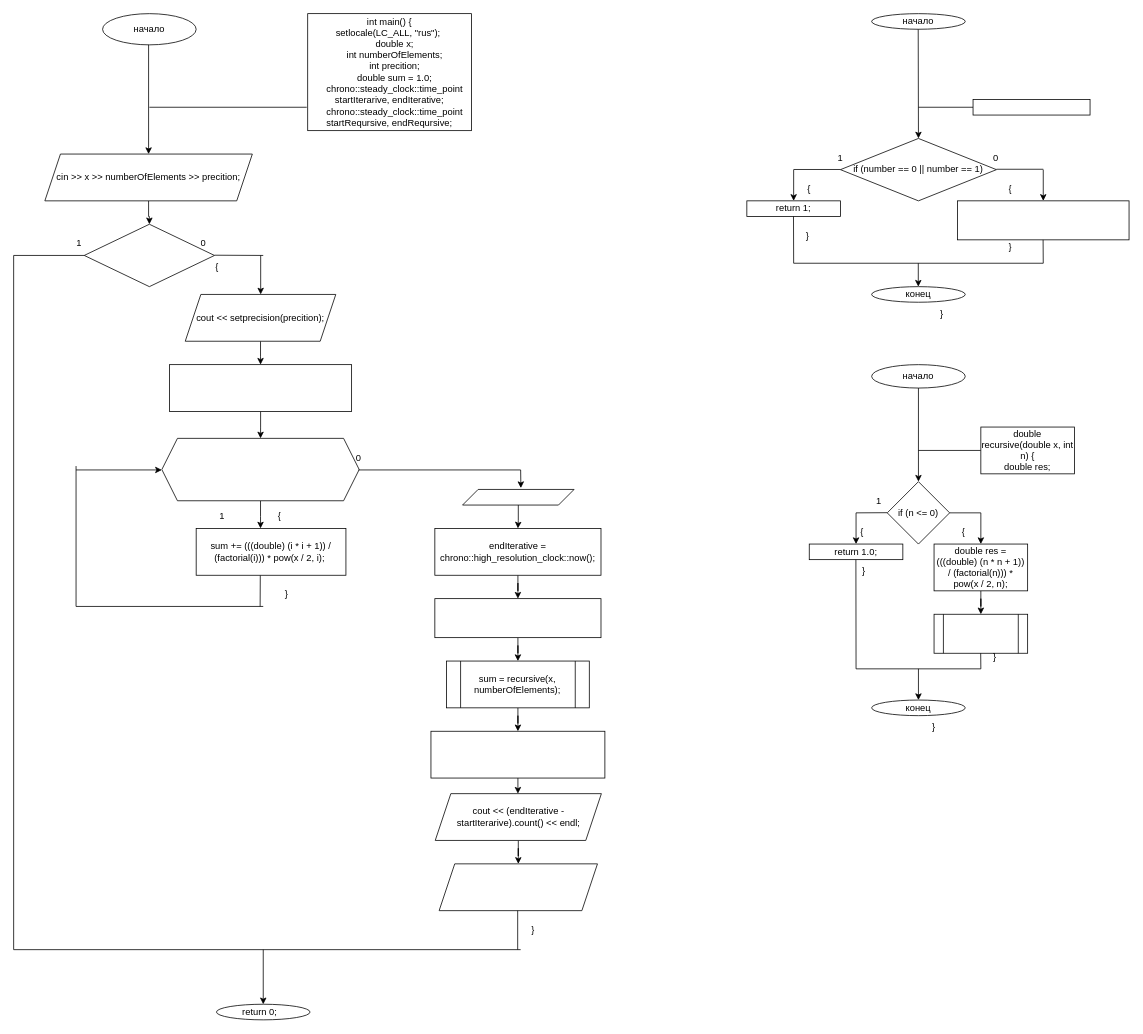
Some shapes in this 1143 by 1034 pixel diagram are drawn without their labels. The shapes that lost their labels are listed below. From the top down, each one's centre as x and y in pixels, then its label:
At point 1031,107: "int factorial(int number) {".
At point 1043,220: "return sqrt(2 * 3.14 * number) * pow(number, number) * (0.46082949308);".
At point 148,255: "if (numberOfElements < 1)".
At point 260,387: "startIterarive = chrono::high_resolution_clock::now();".
At point 260,469: "for (int i = 1; i < numberOfElements + 1; i++)".
At point 518,497: "cout << sum << endl;".
At point 517,618: "startReqursive = chrono::high_resolution_clock::now();".
At point 980,633: "return res + recursive(x, n - 1);".
At point 517,754: "endReqursive = chrono::high_resolution_clock::now();".
At point 517,887: "cout << (endReqursive - startReqursive).count() << endl;".
